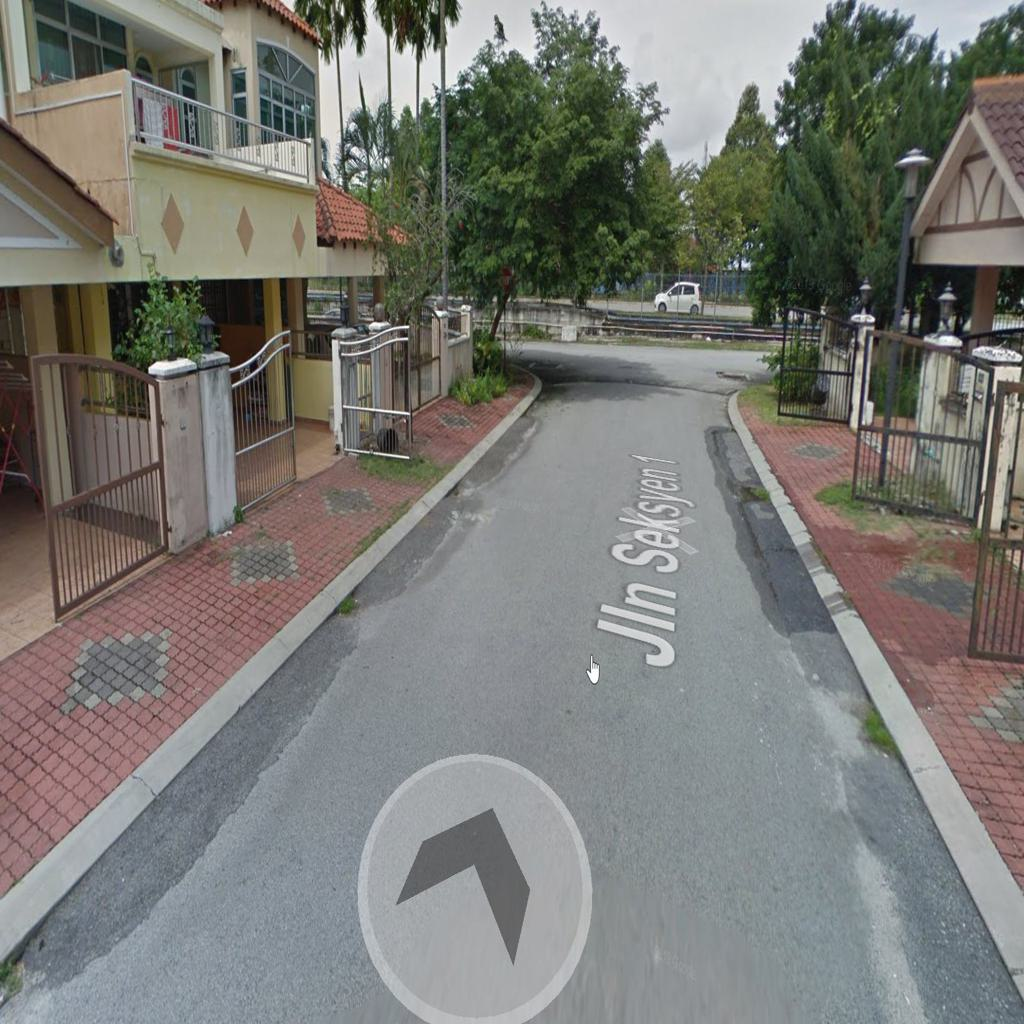Junction: (700, 323, 805, 407), (478, 310, 563, 391)
